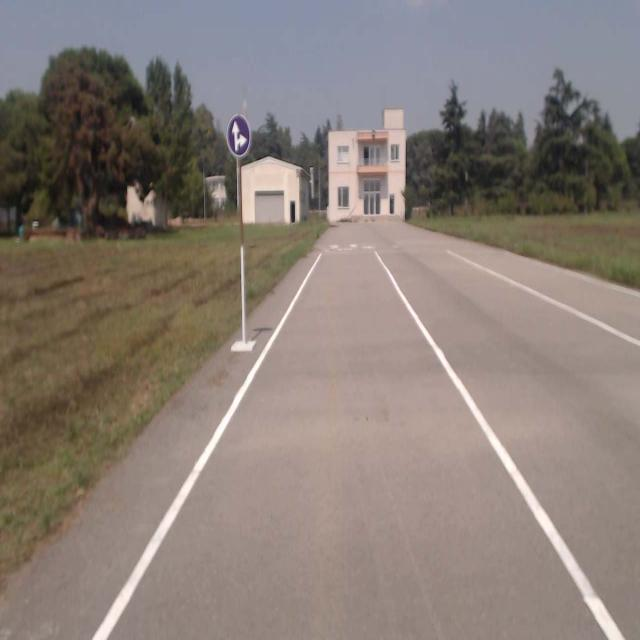ilerisag: (228, 116, 250, 156)
